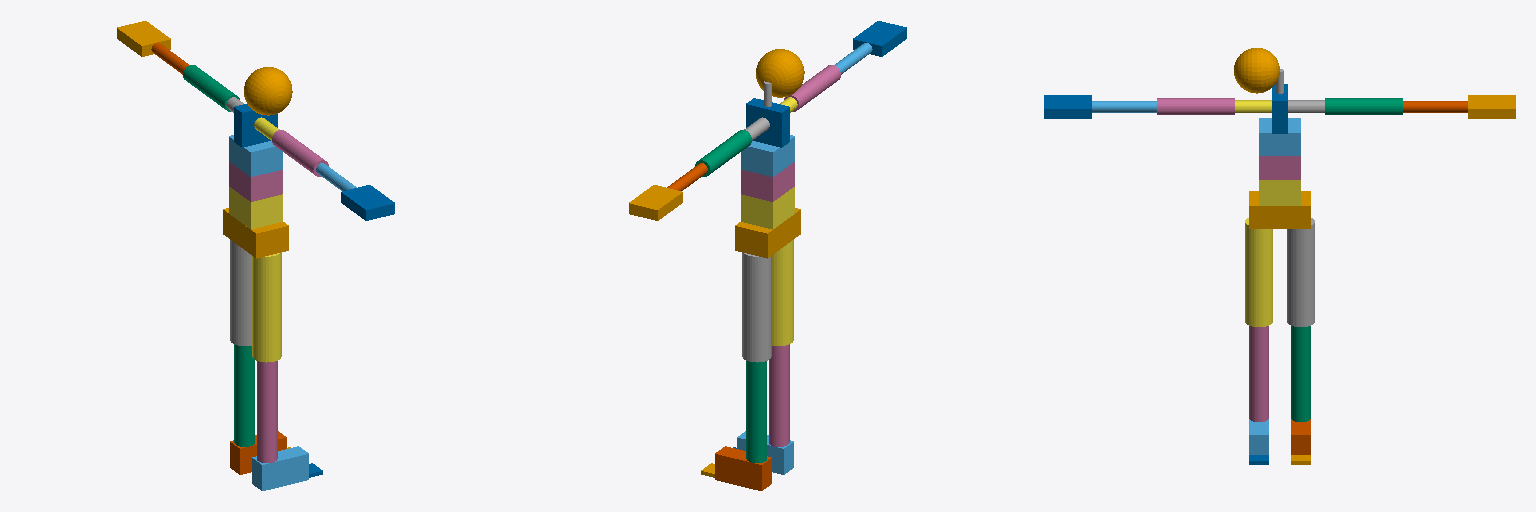
--- What the picture shows (computed from the rendered views, not written in the file) ---
3 views of the same robot in one strip: view 1: azimuth 30°, elevation 25°; view 2: azimuth 150°, elevation 25°; view 3: azimuth 270°, elevation 25° (orthographic).
Model XSensStyleModel_template with 65 links and 64 joints (64 revolute), rooted at Pelvis, posed all joints at 0.
Visible links, largest first — view 1: RightUpperLeg, LeftUpperLeg, RightLowerLeg, LeftLowerLeg, Head, Pelvis, RightFoot, T12, L5, L3, RightHand, LeftHand (+4 smaller); view 2: LeftUpperLeg, RightUpperLeg, LeftLowerLeg, RightLowerLeg, Pelvis, LeftFoot, Head, T12, L5, T8, L3, LeftHand (+4 smaller); view 3: RightUpperLeg, LeftUpperLeg, RightLowerLeg, LeftLowerLeg, Pelvis, Head, T12, RightUpperArm, LeftUpperArm, RightHand, LeftHand, L5 (+6 smaller).
Link boxes in pixels (x1,y1,x2,y2): RightUpperLeg: [252, 252, 281, 362]; LeftUpperLeg: [230, 240, 251, 345]; RightLowerLeg: [257, 361, 277, 462]; LeftLowerLeg: [234, 344, 254, 446]; Head: [244, 67, 292, 115]; Pelvis: [223, 208, 288, 258]; RightFoot: [252, 446, 308, 490]; T12: [229, 135, 282, 176]; L5: [229, 187, 282, 228]; L3: [229, 162, 282, 201]; RightHand: [341, 185, 394, 220]; LeftHand: [117, 21, 170, 56]; LeftUpperLeg: [742, 252, 771, 362]; RightUpperLeg: [772, 240, 793, 345]; LeftLowerLeg: [746, 361, 766, 462]; RightLowerLeg: [769, 344, 789, 446]; Pelvis: [735, 208, 800, 258]; LeftFoot: [715, 446, 771, 490]; Head: [756, 49, 804, 97]; T12: [741, 135, 794, 176]; L5: [741, 187, 794, 228]; T8: [746, 98, 789, 147]; L3: [741, 162, 794, 201]; LeftHand: [629, 185, 682, 220]; RightUpperLeg: [1245, 218, 1272, 326]; LeftUpperLeg: [1287, 218, 1314, 326]; RightLowerLeg: [1249, 326, 1268, 421]; LeftLowerLeg: [1291, 326, 1310, 421]; Pelvis: [1249, 191, 1310, 228]; Head: [1234, 48, 1279, 93]; T12: [1259, 118, 1300, 155]; RightUpperArm: [1157, 98, 1234, 114]; LeftUpperArm: [1325, 98, 1402, 114]; RightHand: [1044, 95, 1091, 118]; LeftHand: [1468, 95, 1515, 118]; L5: [1259, 180, 1300, 205].
Size in the robot's own frame: 0.2995 by 1.8 by 1.66 metres.
Geometry: primitives only (box / cylinder / sphere), no mesh files.

robot.urdf — XSensStyleModel_template:
<robot name="XSensStyleModel_template">
<!--To open this model with Gazebo replace the null masses, inertias and dimensions of the 'fake links f1 and f2'-->
    <!--LINKS-->
	<!--Link base (1)-->
	<link name="Pelvis">
        <inertial>
            <mass value="4.9968"/>
			<!--COM origin wrt pHipOrigin-->
            <origin xyz="0           0    0.049333" rpy="0 0 0" />

<inertia ixx="0.028067" iyy="0.011715" izz="0.031651" ixy="0" ixz="0" iyz="0"/>
        </inertial>

        <visual>
			<!--box origin wrt pHipOrigin-->
            <origin xyz="0           0    0.049333" rpy="0 0 0" />
            <geometry>
                <box size="0.13554     0.24008    0.098815"/>
            </geometry>
        </visual>

        <collision>
			<!--box origin wrt pHipOrigin-->
            <origin xyz="0           0    0.049333" rpy="0 0 0" />
            <geometry>
                <box size="0.13554     0.24008    0.098815"/>
            </geometry>
        </collision>

    </link>
    <!--Chain from (2) to (7)-->
	<link name="L5_f1">
        <inertial>
            <mass value="0.0001"/>
            <origin xyz="0 0 0" rpy="0 0 0" />
            <inertia ixx="0.0003" iyy="0.0003" izz="0.0003" ixy="0" ixz="0" iyz="0"/>
        </inertial>
    </link>
	<link name="L5_f2">
        <inertial>
            <mass value="0.0001"/>
            <origin xyz="0 0 0" rpy="0 0 0" />
            <inertia ixx="0.0003" iyy="0.0003" izz="0.0003" ixy="0" ixz="0" iyz="0"/>
        </inertial>
    </link>
	<link name="L5">
        <inertial>
            <mass value="6.3709"/>
			<!--COM origin wrt jL5S1-->
            <origin xyz="0           0    0.054602" rpy="0 0 0" />
            <inertia ixx="0.047176" iyy="0.03559" izz="0.069139" ixy="0" ixz="0" iyz="0"/>
        </inertial>

        <visual>
			<!--box origin origin wrt jL5S1-->
            <origin xyz="0           0    0.054602" rpy="0 0 0" />
            <geometry>
                <box size="0.13554     0.16014      0.1092"/>
            </geometry>
        </visual>

        <collision>
			<!--box origin origin wrt jL5S1-->
            <origin xyz="0           0    0.054602" rpy="0 0 0" />
            <geometry>
                <box size="0.13554     0.16014      0.1092"/>
            </geometry>
        </collision>
    </link>
	<link name="L3_f1">
        <inertial>
            <mass value="0.0001"/>
            <origin xyz="0 0 0" rpy="0 0 0" />
            <inertia ixx="0.0003" iyy="0.0003" izz="0.0003" ixy="0" ixz="0" iyz="0"/>
        </inertial>
    </link>
	<link name="L3_f2">
        <inertial>
            <mass value="0.0001"/>
            <origin xyz="0 0 0" rpy="0 0 0" />
            <inertia ixx="0.0003" iyy="0.0003" izz="0.0003" ixy="0" ixz="0" iyz="0"/>
        </inertial>
    </link>
	<link name="L3">
        <inertial>
            <mass value="6.3709"/>
			<!--COM origin wrt jL4L3-->
            <origin xyz="0           0    0.049336" rpy="0 0 0" />
            <inertia ixx="0.046013" iyy="0.034427" izz="0.069139" ixy="0" ixz="0" iyz="0"/>
        </inertial>

        <visual>
			<!--box origin origin wrt jL4L3-->
            <origin xyz="0           0    0.049336" rpy="0 0 0" />
            <geometry>
                <box size="0.13554     0.16014    0.098672"/>
            </geometry>
        </visual>

        <collision>
			<!--box origin origin wrt jL4L3-->
            <origin xyz="0           0    0.049336" rpy="0 0 0" />
            <geometry>
                <box size="0.13554     0.16014    0.098672"/>
            </geometry>
        </collision>
    </link>
	<link name="T12_f1">
        <inertial>
            <mass value="0.0001"/>
            <origin xyz="0 0 0" rpy="0 0 0" />
            <inertia ixx="0.0003" iyy="0.0003" izz="0.0003" ixy="0" ixz="0" iyz="0"/>
        </inertial>
    </link>
	<link name="T12_f2">
        <inertial>
            <mass value="0.0001"/>
            <origin xyz="0 0 0" rpy="0 0 0" />
            <inertia ixx="0.0003" iyy="0.0003" izz="0.0003" ixy="0" ixz="0" iyz="0"/>
        </inertial>
    </link>
	<link name="T12">
        <inertial>
            <mass value="6.3709"/>
			<!--COM origin wrt jL1T12-->
            <origin xyz="0           0    0.049336" rpy="0 0 0" />
            <inertia ixx="0.046013" iyy="0.034427" izz="0.069139" ixy="0" ixz="0" iyz="0"/>
        </inertial>

        <visual>
			<!--box origin origin wrt jL1T12-->
            <origin xyz="0           0    0.049336" rpy="0 0 0" />
            <geometry>
                <box size="0.13554     0.16014    0.098672"/>
            </geometry>
        </visual>

        <collision>
			<!--box origin origin wrt jL1T12-->
            <origin xyz="0           0    0.049336" rpy="0 0 0" />
            <geometry>
                <box size="0.13554     0.16014    0.098672"/>
            </geometry>
        </collision>
    </link>
	<link name="T8_f1">
        <inertial>
            <mass value="0.0001"/>
            <origin xyz="0 0 0" rpy="0 0 0" />
            <inertia ixx="0.0003" iyy="0.0003" izz="0.0003" ixy="0" ixz="0" iyz="0"/>
        </inertial>
    </link>
	<link name="T8_f2">
        <inertial>
            <mass value="0.0001"/>
            <origin xyz="0 0 0" rpy="0 0 0" />
            <inertia ixx="0.0003" iyy="0.0003" izz="0.0003" ixy="0" ixz="0" iyz="0"/>
        </inertial>
    </link>
	<link name="T8">
        <inertial>
            <mass value="2.4984"/>
			<!--COM origin wrt jT9T8-->
            <origin xyz="0           0    0.069461" rpy="0 0 0" />
            <inertia ixx="0.0047729" iyy="0.0087452" izz="0.0054818" ixy="0" ixz="0" iyz="0"/>
        </inertial>

        <visual>
			<!--box origin wrt jT9T8-->
            <origin xyz="0           0    0.069461" rpy="0 0 0" />
            <geometry>
                <box size="0.15068     0.06021     0.13892"/>
            </geometry>
        </visual>

        <collision>
			<!--box origin wrt jT9T8-->
            <origin xyz="0           0    0.069461" rpy="0 0 0" />
            <geometry>
                <box size="0.15068     0.06021     0.13892"/>
            </geometry>
        </collision>

    </link>
	<link name="Neck_f1">
        <inertial>
            <mass value="0.0001"/>
            <origin xyz="0 0 0" rpy="0 0 0" />
            <inertia ixx="0.0003" iyy="0.0003" izz="0.0003" ixy="0" ixz="0" iyz="0"/>
        </inertial>
    </link>
	<link name="Neck_f2">
        <inertial>
            <mass value="0.0001"/>
            <origin xyz="0 0 0" rpy="0 0 0" />
            <inertia ixx="0.0003" iyy="0.0003" izz="0.0003" ixy="0" ixz="0" iyz="0"/>
        </inertial>
    </link>
	<link name="Neck">
        <inertial>
            <mass value="0.74952"/>
			<!--COM origin wrt jT1C7-->
            <origin xyz="0           0    0.045917" rpy="0 0 0" />
            <inertia ixx="0.0006888" iyy="0.0006888" izz="0.00032408" ixy="0" ixz="0" iyz="0"/>
        </inertial>

        <visual>
			<!--box origin wrt jT1C7-->
            <origin xyz="0           0    0.045917" rpy="0 0 0" />
            <geometry>
		<cylinder length="0.091834" radius="0.014704"/>
            </geometry>
        </visual>

        <collision>
			<!--box origin wrt jT1C7-->
            <origin xyz="0           0    0.045917" rpy="0 0 0" />
            <geometry>
                <cylinder length="0.091834" radius="0.014704"/>
            </geometry>
        </collision>
    </link>
    <!--
	<link name="Head_f1">
        <inertial>
            <mass value="0.0001"/>
            <origin xyz="0 0 0" rpy="0 0 0" />
            <inertia ixx="0.0003" iyy="0.0003" izz="0.0003" ixy="0" ixz="0" iyz="0"/>
        </inertial>
    </link>
	<link name="Head_f2">
        <inertial>
            <mass value="0.0001"/>
            <origin xyz="0 0 0" rpy="0 0 0" />
            <inertia ixx="0.0003" iyy="0.0003" izz="0.0003" ixy="0" ixz="0" iyz="0"/>
        </inertial>
    </link>
    -->
	<link name="Head">
        <inertial>
            <mass value="2.2486"/>
			<!--COM origin wrt jC1Head-->
            <origin xyz="0           0    0.087994" rpy="0 0 0" />
            <inertia ixx="0.0069641" iyy="0.0069641" izz="0.0069641" ixy="0" ixz="0" iyz="0"/>
        </inertial>

        <visual>
			<!--boc origin wrt jC1Head-->
            <origin xyz="0           0    0.087994" rpy="0 0 0" />
            <geometry>
                <sphere radius="0.087994"/>
            </geometry>
        </visual>

        <collision>
			<!--box origin wrt jC1Head-->
            <origin xyz="0           0    0.087994" rpy="0 0 0" />
            <geometry>
                <sphere radius="0.087994"/>
            </geometry>
        </collision>

    </link>
	<!--Chain from (8) to (11)-->
	<link name="RightShoulder_f1">
        <inertial>
            <mass value="0.0001"/>
            <origin xyz="0 0 0" rpy="0 0 0" />
            <inertia ixx="0.0003" iyy="0.0003" izz="0.0003" ixy="0" ixz="0" iyz="0"/>
        </inertial>
    </link>
	<link name="RightShoulder_f2">
        <inertial>
            <mass value="0.0001"/>
            <origin xyz="0 0 0" rpy="0 0 0" />
            <inertia ixx="0.0003" iyy="0.0003" izz="0.0003" ixy="0" ixz="0" iyz="0"/>
        </inertial>
    </link>
	<link name="RightShoulder">
        <inertial>
            <mass value="1.9363"/>
			<!--COM origin wrt jRightC7Shoulder-->
            <origin xyz="0   -0.069978           0" rpy="0 0 0" />
            <inertia ixx="0.0034631" iyy="0.00060506" izz="0.0034631" ixy="0" ixz="0" iyz="0"/>
        </inertial>

        <visual>
			<!--box origin wrt jRightC7Shoulder. RPY rotated of pi/2.-->
            <origin xyz="0   -0.069978           0" rpy="1.5708 0 0" />
            <geometry>
                <cylinder length="0.13996" radius="0.025"/>
            </geometry>
        </visual>

        <collision>
			<!--box origin wrt jRightC7Shoulder. RPY rotated of pi/2.-->
            <origin xyz="0   -0.069978           0" rpy="1.5708 0 0" />
            <geometry>
                <cylinder length="0.13996" radius="0.025"/>
            </geometry>
        </collision>

    </link>
	<link name="RightUpperArm_f1">
        <inertial>
            <mass value="0.0001"/>
            <origin xyz="0 0 0" rpy="0 0 0" />
            <inertia ixx="0.0003" iyy="0.0003" izz="0.0003" ixy="0" ixz="0" iyz="0"/>
        </inertial>
    </link>
	<link name="RightUpperArm_f2">
        <inertial>
            <mass value="0.0001"/>
            <origin xyz="0 0 0" rpy="0 0 0" />
            <inertia ixx="0.0003" iyy="0.0003" izz="0.0003" ixy="0" ixz="0" iyz="0"/>
        </inertial>
    </link>
    <link name="RightUpperArm">
        <inertial>
            <mass value="1.8738"/>
			<!--COM origin wrt jRightShoulder-->
            <origin xyz="0    -0.15002           0" rpy="0 0 0" />
            <inertia ixx="0.014553" iyy="0.014553" izz="0.00099006" ixy="0" ixz="0" iyz="0"/>
        </inertial>

        <visual>
			<!--box origin wrt jRightShoulder. RPY rotated of pi/2.-->
            <origin xyz="0    -0.15002           0" rpy="1.5708 0 0" />
            <geometry>
                <cylinder length="0.30005" radius="0.032507"/>
            </geometry>
        </visual>

        <collision>
			<!--box origin wrt jRightShoulder. RPY rotated of pi/2.-->
            <origin xyz="0    -0.15002           0" rpy="1.5708 0 0" />
            <geometry>
                <cylinder length="0.30005" radius="0.032507"/>
            </geometry>
        </collision>

    </link>
	<link name="RightForeArm_f1">
        <inertial>
            <mass value="0.0001"/>
            <origin xyz="0 0 0" rpy="0 0 0" />
            <inertia ixx="0.0003" iyy="0.0003" izz="0.0003" ixy="0" ixz="0" iyz="0"/>
        </inertial>
    </link>
	<link name="RightForeArm_f2">
        <inertial>
            <mass value="0.0001"/>
            <origin xyz="0 0 0" rpy="0 0 0" />
            <inertia ixx="0.0003" iyy="0.0003" izz="0.0003" ixy="0" ixz="0" iyz="0"/>
        </inertial>
    </link>
	<link name="RightForeArm">
        <inertial>
            <mass value="1.2492"/>
			<!--COM origin wrt jRightElbow-->
            <origin xyz="0    -0.12263           0" rpy="0 0 0" />
            <inertia ixx="0.0064089" iyy="0.0064089" izz="0.00029335" ixy="0" ixz="0" iyz="0"/>
        </inertial>

        <visual>
			<!--box origin wrt jRightElbow. RPY rotated of pi/2.-->
            <origin xyz="0    -0.12263           0" rpy="1.5708 0 0" />
            <geometry>
                <cylinder length="0.24527" radius="0.021672"/>
            </geometry>
        </visual>

        <collision>
			<!--box origin wrt jRightElbow. RPY rotated of pi/2.-->
            <origin xyz="0    -0.12263           0" rpy="1.5708 0 0" />
            <geometry>
                <cylinder length="0.24527" radius="0.021672"/>
            </geometry>
        </collision>

    </link>
	<link name="RightHand_f1">
        <inertial>
            <mass value="0.0001"/>
            <origin xyz="0 0 0" rpy="0 0 0" />
            <inertia ixx="0.0003" iyy="0.0003" izz="0.0003" ixy="0" ixz="0" iyz="0"/>
        </inertial>
    </link>
	<link name="RightHand_f2">
        <inertial>
            <mass value="0.0001"/>
            <origin xyz="0 0 0" rpy="0 0 0" />
            <inertia ixx="0.0003" iyy="0.0003" izz="0.0003" ixy="0" ixz="0" iyz="0"/>
        </inertial>
    </link>
	<link name="RightHand">
        <inertial>
            <mass value="0.37476"/>
			<!--COM origin wrt jRightWrist-->
            <origin xyz="0   -0.091535           0" rpy="0 0 0" />
            <inertia ixx="0.0011053" iyy="0.00052385" izz="0.0015118" ixy="0" ixz="0" iyz="0"/>
        </inertial>

        <visual>
			<!--box origin wrt jRightWrist-->
            <origin xyz="0   -0.091535           0" rpy="0 0 0" />
            <geometry>
                <box size="0.12205     0.18307    0.043343"/>
            </geometry>
        </visual>

        <collision>
			<!--box origin wrt jRightWrist-->
            <origin xyz="0   -0.091535           0" rpy="0 0 0" />
            <geometry>
                <box size="0.12205     0.18307    0.043343"/>
            </geometry>
        </collision>

    </link>
	<!--Chain from (12) to (15)-->
	<link name="LeftShoulder_f1">
        <inertial>
            <mass value="0.0001"/>
            <origin xyz="0 0 0" rpy="0 0 0" />
            <inertia ixx="0.0003" iyy="0.0003" izz="0.0003" ixy="0" ixz="0" iyz="0"/>
        </inertial>
    </link>
	<link name="LeftShoulder_f2">
        <inertial>
            <mass value="0.0001"/>
            <origin xyz="0 0 0" rpy="0 0 0" />
            <inertia ixx="0.0003" iyy="0.0003" izz="0.0003" ixy="0" ixz="0" iyz="0"/>
        </inertial>
    </link>
	<link name="LeftShoulder">
        <inertial>
            <mass value="1.9363"/>
			<!--COM origin wrt jLeftC7Shoulder-->
            <origin xyz="0    0.069978           0" rpy="0 0 0" />
            <inertia ixx="0.0034631" iyy="0.00060506" izz="0.0034631" ixy="0" ixz="0" iyz="0"/>
        </inertial>

        <visual>
			<!--box origin wrt jLeftC7Shoulder. RPY rotated of pi/2.-->
            <origin xyz="0    0.069978           0" rpy="1.5708 0 0" />
            <geometry>
                <cylinder length="0.13996" radius="0.025"/>
            </geometry>
        </visual>

        <collision>
			<!--box origin wrt jLeftC7Shoulder. RPY rotated of pi/2.-->
            <origin xyz="0    0.069978           0" rpy="1.5708 0 0" />
            <geometry>
                <cylinder length="0.13996" radius="0.025"/>
            </geometry>
        </collision>

    </link>
	<link name="LeftUpperArm_f1">
        <inertial>
            <mass value="0.0001"/>
            <origin xyz="0 0 0" rpy="0 0 0" />
            <inertia ixx="0.0003" iyy="0.0003" izz="0.0003" ixy="0" ixz="0" iyz="0"/>
        </inertial>
    </link>
	<link name="LeftUpperArm_f2">
        <inertial>
            <mass value="0.0001"/>
            <origin xyz="0 0 0" rpy="0 0 0" />
            <inertia ixx="0.0003" iyy="0.0003" izz="0.0003" ixy="0" ixz="0" iyz="0"/>
        </inertial>
    </link>
	<link name="LeftUpperArm">
        <inertial>
            <mass value="1.8738"/>
			<!--COM origin wrt jLeftShoulder-->
            <origin xyz="0     0.15002           0" rpy="0 0 0" />
            <inertia ixx="0.014553" iyy="0.014553" izz="0.00099006" ixy="0" ixz="0" iyz="0"/>
        </inertial>

        <visual>
			<!--box origin wrt jLeftShoulder. RPY rotated of pi/2.-->
            <origin xyz="0     0.15002           0" rpy="1.5708 0 0" />
            <geometry>
                <cylinder length="0.30005" radius="0.032507"/>
            </geometry>
        </visual>

        <collision>
			<!--box origin wrt jLeftShoulder. RPY rotated of pi/2.-->
            <origin xyz="0     0.15002           0" rpy="1.5708 0 0" />
            <geometry>
                <cylinder length="0.30005" radius="0.032507"/>
            </geometry>
        </collision>

    </link>
	<link name="LeftForeArm_f1">
        <inertial>
            <mass value="0.0001"/>
            <origin xyz="0 0 0" rpy="0 0 0" />
            <inertia ixx="0.0003" iyy="0.0003" izz="0.0003" ixy="0" ixz="0" iyz="0"/>
        </inertial>
    </link>
	<link name="LeftForeArm_f2">
        <inertial>
            <mass value="0.0001"/>
            <origin xyz="0 0 0" rpy="0 0 0" />
            <inertia ixx="0.0003" iyy="0.0003" izz="0.0003" ixy="0" ixz="0" iyz="0"/>
        </inertial>
    </link>
	<link name="LeftForeArm">
        <inertial>
            <mass value="1.2492"/>
			<!--COM origin wrt jLeftElbow-->
            <origin xyz="0     0.12263           0" rpy="0 0 0" />
            <inertia ixx="0.0064089" iyy="0.0064089" izz="0.00029335" ixy="0" ixz="0" iyz="0"/>
        </inertial>

        <visual>
			<!--box origin wrt jLeftElbow. RPY rotated of pi/2.-->
            <origin xyz="0     0.12263           0" rpy="1.5708 0 0" />
            <geometry>
                <cylinder length="0.24527" radius="0.021672"/>
            </geometry>
        </visual>

        <collision>
			<!--box origin wrt jLeftElbow. RPY rotated of pi/2.-->
            <origin xyz="0     0.12263           0" rpy="1.5708 0 0" />
            <geometry>
                <cylinder length="0.24527" radius="0.021672"/>
            </geometry>
        </collision>

    </link>
	<link name="LeftHand_f1">
        <inertial>
            <mass value="0.0001"/>
            <origin xyz="0 0 0" rpy="0 0 0" />
            <inertia ixx="0.0003" iyy="0.0003" izz="0.0003" ixy="0" ixz="0" iyz="0"/>
        </inertial>
    </link>
	<link name="LeftHand_f2">
        <inertial>
            <mass value="0.0001"/>
            <origin xyz="0 0 0" rpy="0 0 0" />
            <inertia ixx="0.0003" iyy="0.0003" izz="0.0003" ixy="0" ixz="0" iyz="0"/>
        </inertial>
    </link>
	<link name="LeftHand">
        <inertial>
            <mass value="0.37476"/>
			<!--COM origin wrt jLeftWrist-->
            <origin xyz="0    0.091535           0" rpy="0 0 0" />
            <inertia ixx="0.0011053" iyy="0.00052385" izz="0.0015118" ixy="0" ixz="0" iyz="0"/>
        </inertial>

        <visual>
			<!--COM origin wrt jLeftWrist-->
            <origin xyz="0    0.091535           0" rpy="0 0 0" />
            <geometry>
                <box size="0.12205     0.18307    0.043343"/>
            </geometry>
        </visual>

        <collision>
			<!--COM origin wrt jLeftWrist-->
            <origin xyz="0    0.091535           0" rpy="0 0 0" />
            <geometry>
                <box size="0.12205     0.18307    0.043343"/>
            </geometry>
        </collision>

    </link>
	<!--Chain from (16) to (19)-->
	<link name="RightUpperLeg_f1">
        <inertial>
            <mass value="0.0001"/>
            <origin xyz="0 0 0" rpy="0 0 0" />
            <inertia ixx="0.0003" iyy="0.0003" izz="0.0003" ixy="0" ixz="0" iyz="0"/>
        </inertial>
    </link>
	<link name="RightUpperLeg_f2">
        <inertial>
            <mass value="0.0001"/>
            <origin xyz="0 0 0" rpy="0 0 0" />
            <inertia ixx="0.0003" iyy="0.0003" izz="0.0003" ixy="0" ixz="0" iyz="0"/>
        </inertial>
    </link>
    <link name="RightUpperLeg">
        <inertial>
            <mass value="7.8075"/>
			<!--COM origin wrt jRightHip-->
            <origin xyz="0           0    -0.21002" rpy="0 0 0" />
            <inertia ixx="0.12026" iyy="0.12026" izz="0.010935" ixy="0" ixz="0" iyz="0"/>
        </inertial>

        <visual>
			<!--box origin wrt jRightHip-->
            <origin xyz="0           0    -0.21002" rpy="0 0 0" />
            <geometry>
                <cylinder length="0.42004" radius="0.052927"/>
            </geometry>
        </visual>

        <collision>
			<!--box origin wrt jRightHip-->
            <origin xyz="0           0    -0.21002" rpy="0 0 0" />
            <geometry>
                <cylinder length="0.42004" radius="0.052927"/>
            </geometry>
        </collision>

    </link>
	<link name="RightLowerLeg_f1">
        <inertial>
            <mass value="0.0001"/>
            <origin xyz="0 0 0" rpy="0 0 0" />
            <inertia ixx="0.0003" iyy="0.0003" izz="0.0003" ixy="0" ixz="0" iyz="0"/>
        </inertial>
    </link>
	<link name="RightLowerLeg_f2">
        <inertial>
            <mass value="0.0001"/>
            <origin xyz="0 0 0" rpy="0 0 0" />
            <inertia ixx="0.0003" iyy="0.0003" izz="0.0003" ixy="0" ixz="0" iyz="0"/>
        </inertial>
    </link>
    <link name="RightLowerLeg">
        <inertial>
            <mass value="2.2798"/>
			<!--COM origin wrt jRightKnee-->
            <origin xyz="0           0    -0.20367" rpy="0 0 0" />
            <inertia ixx="0.032328" iyy="0.032328" izz="0.0016104" ixy="0" ixz="0" iyz="0"/>
        </inertial>

        <visual>
			<!--box origin wrt jRightKnee-->
            <origin xyz="0           0    -0.20367" rpy="0 0 0" />
            <geometry>
                <cylinder length="0.40734" radius="0.037587"/>
            </geometry>
        </visual>

        <collision>
			<!--box origin wrt jRightKnee-->
            <origin xyz="0           0    -0.20367" rpy="0 0 0" />
            <geometry>
                <cylinder length="0.40734" radius="0.037587"/>
            </geometry>
        </collision>

    </link>
	<link name="RightFoot_f1">
        <inertial>
            <mass value="0.0001"/>
            <origin xyz="0 0 0" rpy="0 0 0" />
            <inertia ixx="0.0003" iyy="0.0003" izz="0.0003" ixy="0" ixz="0" iyz="0"/>
        </inertial>
    </link>
	<link name="RightFoot_f2">
        <inertial>
            <mass value="0.0001"/>
            <origin xyz="0 0 0" rpy="0 0 0" />
            <inertia ixx="0.0003" iyy="0.0003" izz="0.0003" ixy="0" ixz="0" iyz="0"/>
        </inertial>
    </link>
    <link name="RightFoot">
        <inertial>
            <mass value="0.81198"/>
			<!--COM origin wrt jRightAnkle-->
            <origin xyz="0.05524           0   -0.052405" rpy="0 0 0" />
            <inertia ixx="0.0011257" iyy="0.0033102" izz="0.0029493" ixy="0" ixz="0" iyz="0"/>
        </inertial>

        <visual>
			<!--box origin wrt jRightAnkle-->
	    	<origin xyz="0.05524           0   -0.052405" rpy="0 0 0" />
            <geometry>
                <box size="0.19477    0.075174     0.10481"/>
            </geometry>
        </visual>

        <collision>
			<!--box origin wrt jRightAnkle-->
		    <origin xyz="0.05524           0   -0.052405" rpy="0 0 0" />
	            <geometry>
	                <box size="0.19477    0.075174     0.10481"/>
	            </geometry>
        </collision>

    </link>
	<link name="RightToe_f1">
        <inertial>
            <mass value="0.0001"/>
            <origin xyz="0 0 0" rpy="0 0 0" />
            <inertia ixx="0.0003" iyy="0.0003" izz="0.0003" ixy="0" ixz="0" iyz="0"/>
        </inertial>
    </link>
	<link name="RightToe_f2">
        <inertial>
            <mass value="0.0001"/>
            <origin xyz="0 0 0" rpy="0 0 0" />
            <inertia ixx="0.0003" iyy="0.0003" izz="0.0003" ixy="0" ixz="0" iyz="0"/>
        </inertial>
    </link>
    <link name="RightToe">
        <inertial>
            <mass value="0.09369"/>
			<!--COM origin wrt jRightBallFoot-->
            <origin xyz="0.029147           0           0" rpy="0 0 0" />
            <inertia ixx="4.579e-05" iyy="2.8201e-05" izz="7.0653e-05" ixy="0" ixz="0" iyz="0"/>
        </inertial>

        <visual>
			<!--box origin wrt jRightBallFoot-->
            <origin xyz="0.029147           0           0" rpy="0 0 0" />
            <geometry>
                <box size="0.058294    0.075174    0.014622"/>
            </geometry>
        </visual>

        <collision>
			<!--box origin wrt jRightBallFoot-->
            <origin xyz="0.029147           0           0" rpy="0 0 0" />
            <geometry>
                <box size="0.058294    0.075174    0.014622"/>
            </geometry>
        </collision>
    </link>
	<!--Chain from (20) to (23)-->
	<link name="LeftUpperLeg_f1">
        <inertial>
            <mass value="0.0001"/>
            <origin xyz="0 0 0" rpy="0 0 0" />
            <inertia ixx="0.0003" iyy="0.0003" izz="0.0003" ixy="0" ixz="0" iyz="0"/>
        </inertial>
    </link>
	<link name="LeftUpperLeg_f2">
        <inertial>
            <mass value="0.0001"/>
            <origin xyz="0 0 0" rpy="0 0 0" />
            <inertia ixx="0.0003" iyy="0.0003" izz="0.0003" ixy="0" ixz="0" iyz="0"/>
        </inertial>
    </link>
    <link name="LeftUpperLeg">
        <inertial>
            <mass value="7.8075"/>
			<!--COM origin wrt jLeftHip-->
            <origin xyz="0           0    -0.21002" rpy="0 0 0" />
            <inertia ixx="0.12026" iyy="0.12026" izz="0.010935" ixy="0" ixz="0" iyz="0"/>
        </inertial>

        <visual>
			<!--box origin wrt jLeftHip-->
            <origin xyz="0           0    -0.21002" rpy="0 0 0" />
            <geometry>
                <cylinder length="0.42004" radius="-0.052927"/>
            </geometry>
        </visual>

        <collision>
			<!--box origin wrt jLeftHip-->
            <origin xyz="0           0    -0.21002" rpy="0 0 0" />
            <geometry>
                <cylinder length="0.42004" radius="-0.052927"/>
            </geometry>
        </collision>

    </link>
	<link name="LeftLowerLeg_f1">
        <inertial>
            <mass value="0.0001"/>
            <origin xyz="0 0 0" rpy="0 0 0" />
            <inertia ixx="0.0003" iyy="0.0003" izz="0.0003" ixy="0" ixz="0" iyz="0"/>
        </inertial>
    </link>
	<link name="LeftLowerLeg_f2">
        <inertial>
            <mass value="0.0001"/>
            <origin xyz="0 0 0" rpy="0 0 0" />
            <inertia ixx="0.0003" iyy="0.0003" izz="0.0003" ixy="0" ixz="0" iyz="0"/>
        </inertial>
    </link>
	<link name="LeftLowerLeg">
        <inertial>
            <mass value="2.2798"/>
			<!--COM origin wrt jLeftKnee-->
            <origin xyz="0           0    -0.20367" rpy="0 0 0" />
            <inertia ixx="0.032328" iyy="0.032328" izz="0.0016104" ixy="0" ixz="0" iyz="0"/>
        </inertial>

        <visual>
			<!--box origin wrt jLeftKnee-->
            <origin xyz="0           0    -0.20367" rpy="0 0 0" />
            <geometry>
		<cylinder length="0.40734" radius="0.037587"/>
            </geometry>
        </visual>

        <collision>
			<!--box origin wrt jLeftKnee-->
            <origin xyz="0           0    -0.20367" rpy="0 0 0" />
            <geometry>
		<cylinder length="0.40734" radius="0.037587"/>
            </geometry>
        </collision>

    </link>
	<link name="LeftFoot_f1">
        <inertial>
            <mass value="0.0001"/>
            <origin xyz="0 0 0" rpy="0 0 0" />
            <inertia ixx="0.0003" iyy="0.0003" izz="0.0003" ixy="0" ixz="0" iyz="0"/>
        </inertial>
    </link>
	<link name="LeftFoot_f2">
        <inertial>
            <mass value="0.0001"/>
            <origin xyz="0 0 0" rpy="0 0 0" />
            <inertia ixx="0.0003" iyy="0.0003" izz="0.0003" ixy="0" ixz="0" iyz="0"/>
        </inertial>
    </link>
    <link name="LeftFoot">
        <inertial>
            <mass value="0.81198"/>
			<!--COM origin wrt jLeftAnkle-->
            <origin xyz="0.05524           0   -0.052405" rpy="0 0 0" />
            <inertia ixx="0.0011257" iyy="0.0033102" izz="0.0029493" ixy="0" ixz="0" iyz="0"/>
        </inertial>

        <visual>
			<!--box origin wrt jLeftAnkle-->
	   	 	<origin xyz="0.05524           0   -0.052405" rpy="0 0 0" />
            <geometry>
                <box size="0.19477    0.075174     0.10481"/>
            </geometry>
        </visual>

        <collision>
			<!--box origin wrt jLeftAnkle-->
		    <origin xyz="0.05524           0   -0.052405" rpy="0 0 0" />
	            <geometry>
	                <box size="0.19477    0.075174     0.10481"/>
	            </geometry>
        </collision>

    </link>
	<link name="LeftToe_f1">
        <inertial>
            <mass value="0.0001"/>
            <origin xyz="0 0 0" rpy="0 0 0" />
            <inertia ixx="0.0003" iyy="0.0003" izz="0.0003" ixy="0" ixz="0" iyz="0"/>
        </inertial>
    </link>
	<link name="LeftToe_f2">
        <inertial>
            <mass value="0.0001"/>
            <origin xyz="0 0 0" rpy="0 0 0" />
            <inertia ixx="0.0003" iyy="0.0003" izz="0.0003" ixy="0" ixz="0" iyz="0"/>
        </inertial>
    </link>
	<link name="LeftToe">
        <inertial>
            <mass value="0.09369"/>
			<!--COM origin wrt jLeftBallFoot-->
            <origin xyz="0.029147           0           0" rpy="0 0 0" />
            <inertia ixx="4.579e-05" iyy="2.8201e-05" izz="7.0653e-05" ixy="0" ixz="0" iyz="0"/>
        </inertial>

        <visual>
			<!--box origin wrt jLeftBallFoot-->
            <origin xyz="0.029147           0           0" rpy="0 0 0" />
            <geometry>
                <box size="0.058294    0.075174    0.014622"/>
            </geometry>
        </visual>

        <collision>
			<!--box origin wrt jLeftBallFoot-->
            <origin xyz="0.029147           0           0" rpy="0 0 0" />
            <geometry>
                <box size="0.058294    0.075174    0.014622"/>
            </geometry>
        </collision>
    </link>


	<!--JOINTS-->
	<!--Chain from (2) to (7)-->
	<joint name="jL5S1_rotx" type="revolute">
        <origin xyz="1.5e-05           0    0.098741" rpy="0 0 0"/>
        <parent link="Pelvis"/>
        <child link="L5_f1"/>
        <dynamics damping="0.1" friction="0.0"/>
        <limit effort="30" velocity="1.0" lower="-3.141592" upper="3.141592" />
        <axis xyz="1 0 0" />
    </joint>
	<joint name="jL5S1_roty" type="revolute">
        <origin xyz="0 0 0" rpy="0 0 0"/>
        <parent link="L5_f1"/>
        <child link="L5_f2"/>
        <dynamics damping="0.1" friction="0.0"/>
        <limit effort="30" velocity="1.0" lower="-3.141592" upper="3.141592" />
        <axis xyz="0 1 0" />
    </joint>
    <joint name="jL5S1_rotz" type="revolute">
        <origin xyz="0 0 0" rpy="0 0 0"/>
        <parent link="L5_f2"/>
        <child link="L5"/>
        <dynamics damping="0.1" friction="0.0"/>
        <limit effort="30" velocity="1.0" lower="-3.141592" upper="3.141592" />
        <axis xyz="0 0 1" />
    </joint>
	<joint name="jL4L3_rotx" type="revolute">
        <origin xyz="-2.7e-05           0      0.1092" rpy="0 0 0"/>
        <parent link="L5"/>
        <child link="L3_f1"/>
        <dynamics damping="0.1" friction="0.0"/>
        <limit effort="30" velocity="1.0" lower="-3.141592" upper="3.141592" />
        <axis xyz="1 0 0" />
    </joint>
	<joint name="jL4L3_roty" type="revolute">
        <origin xyz="0 0 0" rpy="0 0 0"/>
        <parent link="L3_f1"/>
        <child link="L3_f2"/>
        <dynamics damping="0.1" friction="0.0"/>
        <limit effort="30" velocity="1.0" lower="-3.141592" upper="3.141592" />
        <axis xyz="0 1 0" />
    </joint>
    <joint name="jL4L3_rotz" type="revolute">
        <origin xyz="0 0 0" rpy="0 0 0"/>
        <parent link="L3_f2"/>
        <child link="L3"/>
        <dynamics damping="0.1" friction="0.0"/>
        <limit effort="30" velocity="1.0" lower="-3.141592" upper="3.141592" />
        <axis xyz="0 0 1" />
    </joint>
	<joint name="jL1T12_rotx" type="revolute">
        <origin xyz="0           0    0.098672" rpy="0 0 0"/>
        <parent link="L3"/>
        <child link="T12_f1"/>
        <dynamics damping="0.1" friction="0.0"/>
        <limit effort="30" velocity="1.0" lower="-3.141592" upper="3.141592" />
        <axis xyz="1 0 0" />
    </joint>
	<joint name="jL1T12_roty" type="revolute">
        <origin xyz="0 0 0" rpy="0 0 0"/>
        <parent link="T12_f1"/>
        <child link="T12_f2"/>
        <dynamics damping="0.1" friction="0.0"/>
        <limit effort="30" velocity="1.0" lower="-3.141592" upper="3.141592" />
        <axis xyz="0 1 0" />
    </joint>
    <joint name="jL1T12_rotz" type="revolute">
        <origin xyz="0 0 0" rpy="0 0 0"/>
        <parent link="T12_f2"/>
        <child link="T12"/>
        <dynamics damping="0.1" friction="0.0"/>
        <limit effort="30" velocity="1.0" lower="-3.141592" upper="3.141592" />
        <axis xyz="0 0 1" />
    </joint>
	<joint name="jT9T8_rotx" type="revolute">
        <origin xyz="0           0    0.098672" rpy="0 0 0"/>
        <parent link="T12"/>
        <child link="T8_f1"/>
        <dynamics damping="0.1" friction="0.0"/>
        <limit effort="30" velocity="1.0" lower="-3.141592" upper="3.141592" />
        <axis xyz="1 0 0" />
    </joint>
	<joint name="jT9T8_roty" type="revolute">
        <origin xyz="0 0 0" rpy="0 0 0"/>
        <parent link="T8_f1"/>
        <child link="T8_f2"/>
        <dynamics damping="0.1" friction="0.0"/>
        <limit effort="30" velocity="1.0" lower="-3.141592" upper="3.141592" />
        <axis xyz="0 1 0" />
    </joint>
    <joint name="jT9T8_rotz" type="revolute">
        <origin xyz="0 0 0" rpy="0 0 0"/>
        <parent link="T8_f2"/>
        <child link="T8"/>
        <dynamics damping="0.1" friction="0.0"/>
        <limit effort="30" velocity="1.0" lower="-3.141592" upper="3.141592" />
        <axis xyz="0 0 1" />
    </joint>
	<joint name="jT1C7_rotx" type="revolute">
        <origin xyz="0           0     0.13892" rpy="0 0 0"/>
        <parent link="T8"/>
        <child link="Neck_f1"/>
        <dynamics damping="0.1" friction="0.0"/>
        <limit effort="30" velocity="1.0" lower="-3.141592" upper="3.141592" />
        <axis xyz="1 0 0" />
    </joint>
	<joint name="jT1C7_roty" type="revolute">
        <origin xyz="0 0 0" rpy="0 0 0"/>
        <parent link="Neck_f1"/>
        <child link="Neck_f2"/>
        <dynamics damping="0.1" friction="0.0"/>
        <limit effort="30" velocity="1.0" lower="-3.141592" upper="3.141592" />
        <axis xyz="0 1 0" />
    </joint>
    <joint name="jT1C7_rotz" type="revolute">
        <origin xyz="0 0 0" rpy="0 0 0"/>
        <parent link="Neck_f2"/>
        <child link="Neck"/>
        <dynamics damping="0.1" friction="0.0"/>
        <limit effort="30" velocity="1.0" lower="-3.141592" upper="3.141592" />
        <axis xyz="0 0 1" />
    </joint>
	<joint name="jC1Head_rotx" type="revolute">
        <origin xyz="-6.5e-05           0    0.091834" rpy="1.57079632679 0.7853 0"/>
        <parent link="Neck"/>
        <child link="Head"/>
        <dynamics damping="0.1" friction="0.0"/>
        <limit effort="30" velocity="1.0" lower="-3.141592" upper="3.141592" />
        <axis xyz="1 0 0" />
    </joint>
<!--
<joint name="jC1Head_roty" type="revolute">
        <origin xyz="0 0 0" rpy="0 0 0"/>
        <parent link="Head_f1"/>
        <child link="Head_f2"/>
        <dynamics damping="0.1" friction="0.0"/>
        <limit effort="30" velocity="1.0" lower="-3.141592" upper="3.141592" />
        <axis xyz="0 1 0" />
    </joint>
    <joint name="jC1Head_rotz" type="revolute">
        <origin xyz="0 0 0" rpy="0 0 0"/>
        <parent link="Head_f2"/>
        <child link="Head"/>
        <dynamics damping="0.1" friction="0.0"/>
        <limit effort="30" velocity="1.0" lower="-3.141592" upper="3.141592" />
        <axis xyz="0 0 1" />
    </joint>
    -->
	<!--Chain from (8) to (11)-->
	<joint name="jRightC7Shoulder_rotx" type="revolute">
        <origin xyz="0   -0.030105    0.077497" rpy="0 0 0"/>
        <parent link="T8"/>
        <child link="RightShoulder_f1"/>
        <dynamics damping="0.1" friction="0.0"/>
        <limit effort="30" velocity="1.0" lower="-3.141592" upper="3.141592" />
        <axis xyz="1 0 0" />
    </joint>
	<joint name="jRightC7Shoulder_roty" type="revolute">
        <origin xyz="0 0 0" rpy="0 0 0"/>
        <parent link="RightShoulder_f1"/>
        <child link="RightShoulder_f2"/>
        <dynamics damping="0.1" friction="0.0"/>
        <limit effort="30" velocity="1.0" lower="-3.141592" upper="3.141592" />
        <axis xyz="0 1 0" />
    </joint>
    <joint name="jRightC7Shoulder_rotz" type="revolute">
        <origin xyz="0 0 0" rpy="0 0 0"/>
        <parent link="RightShoulder_f2"/>
        <child link="RightShoulder"/>
        <dynamics damping="0.1" friction="0.0"/>
        <limit effort="30" velocity="1.0" lower="-3.141592" upper="3.141592" />
        <axis xyz="0 0 1" />
    </joint>
	<joint name="jRightShoulder_rotx" type="revolute">
        <origin xyz="0    -0.13996           0" rpy="0 0 0"/>
        <parent link="RightShoulder"/>
        <child link="RightUpperArm_f1"/>
        <dynamics damping="0.1" friction="0.0"/>
        <limit effort="30" velocity="1.0" lower="-3.141592" upper="3.141592" />
        <axis xyz="1 0 0" />
    </joint>
	<joint name="jRightShoulder_roty" type="revolute">
        <origin xyz="0 0 0" rpy="0 0 0"/>
        <parent link="RightUpperArm_f1"/>
        <child link="RightUpperArm_f2"/>
        <dynamics damping="0.1" friction="0.0"/>
        <limit effort="30" velocity="1.0" lower="-3.141592" upper="3.141592" />
        <axis xyz="0 1 0" />
    </joint>
    <joint name="jRightShoulder_rotz" type="revolute">
        <origin xyz="0 0 0" rpy="0 0 0"/>
        <parent link="RightUpperArm_f2"/>
        <child link="RightUpperArm"/>
        <dynamics damping="0.1" friction="0.0"/>
        <limit effort="30" velocity="1.0" lower="-3.141592" upper="3.141592" />
        <axis xyz="0 0 1" />
    </joint>
	<joint name="jRightElbow_rotx" type="revolute">
        <origin xyz="0    -0.30005           0" rpy="0 0 0"/>
        <parent link="RightUpperArm"/>
        <child link="RightForeArm_f1"/>
        <dynamics damping="0.1" friction="0.0"/>
        <limit effort="30" velocity="1.0" lower="-3.141592" upper="3.141592" />
        <axis xyz="1 0 0" />
    </joint>
	<joint name="jRightElbow_roty" type="revolute">
        <origin xyz="0 0 0" rpy="0 0 0"/>
        <parent link="RightForeArm_f1"/>
        <child link="RightForeArm_f2"/>
        <dynamics damping="0.1" friction="0.0"/>
        <limit effort="30" velocity="1.0" lower="-3.141592" upper="3.141592" />
        <axis xyz="0 1 0" />
    </joint>
    <joint name="jRightElbow_rotz" type="revolute">
        <origin xyz="0 0 0" rpy="0 0 0"/>
        <parent link="RightForeArm_f2"/>
        <child link="RightForeArm"/>
        <dynamics damping="0.1" friction="0.0"/>
        <limit effort="30" velocity="1.0" lower="-3.141592" upper="3.141592" />
        <axis xyz="0 0 1" />
    </joint>
	<joint name="jRightWrist_rotx" type="revolute">
        <origin xyz="1e-06    -0.24527           0" rpy="0 0 0"/>
        <parent link="RightForeArm"/>
        <child link="RightHand_f1"/>
        <dynamics damping="0.1" friction="0.0"/>
        <limit effort="30" velocity="1.0" lower="-3.141592" upper="3.141592" />
        <axis xyz="1 0 0" />
    </joint>
	<joint name="jRightWrist_roty" type="revolute">
        <origin xyz="0 0 0" rpy="0 0 0"/>
        <parent link="RightHand_f1"/>
        <child link="RightHand_f2"/>
        <dynamics damping="0.1" friction="0.0"/>
        <limit effort="30" velocity="1.0" lower="-3.141592" upper="3.141592" />
        <axis xyz="0 1 0" />
    </joint>
    <joint name="jRightWrist_rotz" type="revolute">
        <origin xyz="0 0 0" rpy="0 0 0"/>
        <parent link="RightHand_f2"/>
        <child link="RightHand"/>
        <dynamics damping="0.1" friction="0.0"/>
        <limit effort="30" velocity="1.0" lower="-3.141592" upper="3.141592" />
        <axis xyz="0 0 1" />
    </joint>
	<!--Chain from (12) to (15)-->
	<joint name="jLeftC7Shoulder_rotx" type="revolute">
        <origin xyz="0    0.030105    0.077497" rpy="0 0 0"/>
        <parent link="T8"/>
        <child link="LeftShoulder_f1"/>
        <dynamics damping="0.1" friction="0.0"/>
        <limit effort="30" velocity="1.0" lower="-3.141592" upper="3.141592" />
        <axis xyz="1 0 0" />
    </joint>
	<joint name="jLeftC7Shoulder_roty" type="revolute">
        <origin xyz="0 0 0" rpy="0 0 0"/>
        <parent link="LeftShoulder_f1"/>
        <child link="LeftShoulder_f2"/>
        <dynamics damping="0.1" friction="0.0"/>
        <limit effort="30" velocity="1.0" lower="-3.141592" upper="3.141592" />
        <axis xyz="0 1 0" />
    </joint>
    <joint name="jLeftC7Shoulder_rotz" type="revolute">
        <origin xyz="0 0 0" rpy="0 0 0"/>
        <parent link="LeftShoulder_f2"/>
        <child link="LeftShoulder"/>
        <dynamics damping="0.1" friction="0.0"/>
        <limit effort="30" velocity="1.0" lower="-3.141592" upper="3.141592" />
        <axis xyz="0 0 1" />
    </joint>
	<joint name="jLeftShoulder_rotx" type="revolute">
        <origin xyz="0     0.13996           0" rpy="0 0 0"/>
        <parent link="LeftShoulder"/>
        <child link="LeftUpperArm_f1"/>
        <dynamics damping="0.1" friction="0.0"/>
        <limit effort="30" velocity="1.0" lower="-3.141592" upper="3.141592" />
        <axis xyz="1 0 0" />
    </joint>
	<joint name="jLeftShoulder_roty" type="revolute">
        <origin xyz="0 0 0" rpy="0 0 0"/>
        <parent link="LeftUpperArm_f1"/>
        <child link="LeftUpperArm_f2"/>
        <dynamics damping="0.1" friction="0.0"/>
        <limit effort="30" velocity="1.0" lower="-3.141592" upper="3.141592" />
        <axis xyz="0 1 0" />
    </joint>
    <joint name="jLeftShoulder_rotz" type="revolute">
        <origin xyz="0 0 0" rpy="0 0 0"/>
        <parent link="LeftUpperArm_f2"/>
        <child link="LeftUpperArm"/>
        <dynamics damping="0.1" friction="0.0"/>
        <limit effort="30" velocity="1.0" lower="-3.141592" upper="3.141592" />
        <axis xyz="0 0 1" />
    </joint>
    <joint name="jLeftElbow_rotx" type="revolute">
        <origin xyz="0     0.30005           0" rpy="0 0 0"/>
        <parent link="LeftUpperArm"/>
        <child link="LeftForeArm_f1"/>
        <dynamics damping="0.1" friction="0.0"/>
        <limit effort="30" velocity="1.0" lower="-3.141592" upper="3.141592" />
        <axis xyz="1 0 0" />
    </joint>
	<joint name="jLeftElbow_roty" type="revolute">
        <origin xyz="0 0 0" rpy="0 0 0"/>
        <parent link="LeftForeArm_f1"/>
        <child link="LeftForeArm_f2"/>
        <dynamics damping="0.1" friction="0.0"/>
        <limit effort="30" velocity="1.0" lower="-3.141592" upper="3.141592" />
        <axis xyz="0 1 0" />
    </joint>
    <joint name="jLeftElbow_rotz" type="revolute">
        <origin xyz="0 0 0" rpy="0 0 0"/>
        <parent link="LeftForeArm_f2"/>
        <child link="LeftForeArm"/>
        <dynamics damping="0.1" friction="0.0"/>
        <limit effort="30" velocity="1.0" lower="-3.141592" upper="3.141592" />
        <axis xyz="0 0 1" />
    </joint>
	<joint name="jLeftWrist_rotx" type="revolute">
        <origin xyz="1e-06     0.24527           0" rpy="0 0 0"/>
        <parent link="LeftForeArm"/>
        <child link="LeftHand_f1"/>
        <dynamics damping="0.1" friction="0.0"/>
        <limit effort="30" velocity="1.0" lower="-3.141592" upper="3.141592" />
        <axis xyz="1 0 0" />
    </joint>
	<joint name="jLeftWrist_roty" type="revolute">
        <origin xyz="0 0 0" rpy="0 0 0"/>
        <parent link="LeftHand_f1"/>
        <child link="LeftHand_f2"/>
        <dynamics damping="0.1" friction="0.0"/>
        <limit effort="30" velocity="1.0" lower="-3.141592" upper="3.141592" />
        <axis xyz="0 1 0" />
    </joint>
    <joint name="jLeftWrist_rotz" type="revolute">
        <origin xyz="0 0 0" rpy="0 0 0"/>
        <parent link="LeftHand_f2"/>
        <child link="LeftHand"/>
        <dynamics damping="0.1" friction="0.0"/>
        <limit effort="30" velocity="1.0" lower="-3.141592" upper="3.141592" />
        <axis xyz="0 0 1" />
    </joint>
	<!--Chain from (16) to (19)-->
	<joint name="jRightHip_rotx" type="revolute">
        <origin xyz="-8e-06   -0.080069    -7.4e-05" rpy="0 0 0"/>
        <parent link="Pelvis"/>
        <child link="RightUpperLeg_f1"/>
        <dynamics damping="0.1" friction="0.0"/>
        <limit effort="30" velocity="1.0" lower="-3.141592" upper="3.141592" />
        <axis xyz="1 0 0" />
    </joint>
	<joint name="jRightHip_roty" type="revolute">
        <origin xyz="0 0 0" rpy="0 0 0"/>
        <parent link="RightUpperLeg_f1"/>
        <child link="RightUpperLeg_f2"/>
        <dynamics damping="0.1" friction="0.0"/>
        <limit effort="30" velocity="1.0" lower="-3.141592" upper="3.141592" />
        <axis xyz="0 1 0" />
    </joint>
    <joint name="jRightHip_rotz" type="revolute">
        <origin xyz="0 0 0" rpy="0 0 0"/>
        <parent link="RightUpperLeg_f2"/>
        <child link="RightUpperLeg"/>
        <dynamics damping="0.1" friction="0.0"/>
        <limit effort="30" velocity="1.0" lower="-3.141592" upper="3.141592" />
        <axis xyz="0 0 1" />
    </joint>
	<joint name="jRightKnee_rotx" type="revolute">
        <origin xyz="8e-06           0    -0.42004" rpy="0 0 0"/>
        <parent link="RightUpperLeg"/>
        <child link="RightLowerLeg_f1"/>
        <dynamics damping="0.1" friction="0.0"/>
        <limit effort="30" velocity="1.0" lower="-3.141592" upper="3.141592" />
        <axis xyz="1 0 0" />
    </joint>
	<joint name="jRightKnee_roty" type="revolute">
        <origin xyz="0 0 0" rpy="0 0 0"/>
        <parent link="RightLowerLeg_f1"/>
        <child link="RightLowerLeg_f2"/>
        <dynamics damping="0.1" friction="0.0"/>
        <limit effort="30" velocity="1.0" lower="-3.141592" upper="3.141592" />
        <axis xyz="0 1 0" />
    </joint>
    <joint name="jRightKnee_rotz" type="revolute">
        <origin xyz="0 0 0" rpy="0 0 0"/>
        <parent link="RightLowerLeg_f2"/>
        <child link="RightLowerLeg"/>
        <dynamics damping="0.1" friction="0.0"/>
        <limit effort="30" velocity="1.0" lower="-3.141592" upper="3.141592" />
        <axis xyz="0 0 1" />
    </joint>
	<joint name="jRightAnkle_rotx" type="revolute">
        <origin xyz="0.00046           0    -0.40734" rpy="0 0 0"/>
        <parent link="RightLowerLeg"/>
        <child link="RightFoot_f1"/>
        <dynamics damping="0.1" friction="0.0"/>
        <limit effort="30" velocity="1.0" lower="-3.141592" upper="3.141592" />
        <axis xyz="1 0 0" />
    </joint>
	<joint name="jRightAnkle_roty" type="revolute">
        <origin xyz="0 0 0" rpy="0 0 0"/>
        <parent link="RightFoot_f1"/>
        <child link="RightFoot_f2"/>
        <dynamics damping="0.1" friction="0.0"/>
        <limit effort="30" velocity="1.0" lower="-3.141592" upper="3.141592" />
        <axis xyz="0 1 0" />
    </joint>
    <joint name="jRightAnkle_rotz" type="revolute">
        <origin xyz="0 0 0" rpy="0 0 0"/>
        <parent link="RightFoot_f2"/>
        <child link="RightFoot"/>
        <dynamics damping="0.1" friction="0.0"/>
        <limit effort="30" velocity="1.0" lower="-3.141592" upper="3.141592" />
        <axis xyz="0 0 1" />
    </joint>
	<joint name="jRightBallFoot_rotx" type="revolute">
        <origin xyz="0.15263           0   -0.088953" rpy="0 0 0"/>
        <parent link="RightFoot"/>
        <child link="RightToe_f1"/>
        <dynamics damping="0.1" friction="0.0"/>
        <limit effort="30" velocity="1.0" lower="-3.141592" upper="3.141592" />
        <axis xyz="1 0 0" />
    </joint>
	<joint name="jRightBallFoot_roty" type="revolute">
        <origin xyz="0 0 0" rpy="0 0 0"/>
        <parent link="RightToe_f1"/>
        <child link="RightToe_f2"/>
        <dynamics damping="0.1" friction="0.0"/>
        <limit effort="30" velocity="1.0" lower="-3.141592" upper="3.141592" />
        <axis xyz="0 1 0" />
    </joint>
    <joint name="jRightBallFoot_rotz" type="revolute">
        <origin xyz="0 0 0" rpy="0 0 0"/>
        <parent link="RightToe_f2"/>
        <child link="RightToe"/>
        <dynamics damping="0.1" friction="0.0"/>
        <limit effort="30" velocity="1.0" lower="-3.141592" upper="3.141592" />
        <axis xyz="0 0 1" />
    </joint>
	<!--Chain from (20) to (23)-->
	<joint name="jLeftHip_rotx" type="revolute">
        <origin xyz="-8e-06    0.080069    -7.4e-05" rpy="0 0 0"/>
        <parent link="Pelvis"/>
        <child link="LeftUpperLeg_f1"/>
        <dynamics damping="0.1" friction="0.0"/>
        <limit effort="30" velocity="1.0" lower="-3.141592" upper="3.141592" />
        <axis xyz="1 0 0" />
    </joint>
	<joint name="jLeftHip_roty" type="revolute">
        <origin xyz="0 0 0" rpy="0 0 0"/>
        <parent link="LeftUpperLeg_f1"/>
        <child link="LeftUpperLeg_f2"/>
        <dynamics damping="0.1" friction="0.0"/>
        <limit effort="30" velocity="1.0" lower="-3.141592" upper="3.141592" />
        <axis xyz="0 1 0" />
    </joint>
    <joint name="jLeftHip_rotz" type="revolute">
        <origin xyz="0 0 0" rpy="0 0 0"/>
        <parent link="LeftUpperLeg_f2"/>
        <child link="LeftUpperLeg"/>
        <dynamics damping="0.1" friction="0.0"/>
        <limit effort="30" velocity="1.0" lower="-3.141592" upper="3.141592" />
        <axis xyz="0 0 1" />
    </joint>
	<joint name="jLeftKnee_rotx" type="revolute">
        <origin xyz="8e-06           0    -0.42004" rpy="0 0 0"/>
        <parent link="LeftUpperLeg"/>
        <child link="LeftLowerLeg_f1"/>
        <dynamics damping="0.1" friction="0.0"/>
        <limit effort="30" velocity="1.0" lower="-3.141592" upper="3.141592" />
        <axis xyz="1 0 0" />
    </joint>
	<joint name="jLeftKnee_roty" type="revolute">
        <origin xyz="0 0 0" rpy="0 0 0"/>
        <parent link="LeftLowerLeg_f1"/>
        <child link="LeftLowerLeg_f2"/>
        <dynamics damping="0.1" friction="0.0"/>
        <limit effort="30" velocity="1.0" lower="-3.141592" upper="3.141592" />
        <axis xyz="0 1 0" />
    </joint>
    <joint name="jLeftKnee_rotz" type="revolute">
        <origin xyz="0 0 0" rpy="0 0 0"/>
        <parent link="LeftLowerLeg_f2"/>
        <child link="LeftLowerLeg"/>
        <dynamics damping="0.1" friction="0.0"/>
        <limit effort="30" velocity="1.0" lower="-3.141592" upper="3.141592" />
        <axis xyz="0 0 1" />
    </joint>
	<joint name="jLeftAnkle_rotx" type="revolute">
        <origin xyz="0.00046           0    -0.40734" rpy="0 0 0"/>
        <parent link="LeftLowerLeg"/>
        <child link="LeftFoot_f1"/>
        <dynamics damping="0.1" friction="0.0"/>
        <limit effort="30" velocity="1.0" lower="-3.141592" upper="3.141592" />
        <axis xyz="1 0 0" />
    </joint>
	<joint name="jLeftAnkle_roty" type="revolute">
        <origin xyz="0 0 0" rpy="0 0 0"/>
        <parent link="LeftFoot_f1"/>
        <child link="LeftFoot_f2"/>
        <dynamics damping="0.1" friction="0.0"/>
        <limit effort="30" velocity="1.0" lower="-3.141592" upper="3.141592" />
        <axis xyz="0 1 0" />
    </joint>
    <joint name="jLeftAnkle_rotz" type="revolute">
        <origin xyz="0 0 0" rpy="0 0 0"/>
        <parent link="LeftFoot_f2"/>
        <child link="LeftFoot"/>
        <dynamics damping="0.1" friction="0.0"/>
        <limit effort="30" velocity="1.0" lower="-3.141592" upper="3.141592" />
        <axis xyz="0 0 1" />
    </joint>
	<joint name="jLeftBallFoot_rotx" type="revolute">
        <origin xyz="0.15263           0   -0.088953" rpy="0 0 0"/>
        <parent link="LeftFoot"/>
        <child link="LeftToe_f1"/>
        <dynamics damping="0.1" friction="0.0"/>
        <limit effort="30" velocity="1.0" lower="-3.141592" upper="3.141592" />
        <axis xyz="1 0 0" />
    </joint>
	<joint name="jLeftBallFoot_roty" type="revolute">
        <origin xyz="0 0 0" rpy="0 0 0"/>
        <parent link="LeftToe_f1"/>
        <child link="LeftToe_f2"/>
        <dynamics damping="0.1" friction="0.0"/>
        <limit effort="30" velocity="1.0" lower="-3.141592" upper="3.141592" />
        <axis xyz="0 1 0" />
    </joint>
    <joint name="jLeftBallFoot_rotz" type="revolute">
        <origin xyz="0 0 0" rpy="0 0 0"/>
        <parent link="LeftToe_f2"/>
        <child link="LeftToe"/>
        <dynamics damping="0.1" friction="0.0"/>
        <limit effort="30" velocity="1.0" lower="-3.141592" upper="3.141592" />
        <axis xyz="0 0 1" />
    </joint>

	<!-- Sensor  1-->
<sensor name="Pelvis_gyro" type="gyroscope">
<parent link="Pelvis"/>
<origin xyz="-0.055881  0.00020678    0.095148" rpy="0.094617      1.0086     -3.0304"/>
</sensor>
<sensor name="Pelvis_accelerometer" type="accelerometer">
<parent link="Pelvis"/>
<origin xyz="-0.055881  0.00020678    0.095148" rpy="0.094617      1.0086     -3.0304"/>
</sensor>
<!-- Sensor  2-->
<sensor name="T8_gyro" type="gyroscope">
<parent link="T8"/>
<origin xyz="0.14068  6.2838e-06    0.077433" rpy="-0.077161      1.1064    -0.17687"/>
</sensor>
<sensor name="T8_accelerometer" type="accelerometer">
<parent link="T8"/>
<origin xyz="0.14068  6.2838e-06    0.077433" rpy="-0.077161      1.1064    -0.17687"/>
</sensor>
<!-- Sensor  3-->
<sensor name="Head_gyro" type="gyroscope">
<parent link="Head"/>
<origin xyz="-0.06975 -2.1628e-05    0.076683" rpy="2.3836  -0.0032688     -1.7942"/>
</sensor>
<sensor name="Head_accelerometer" type="accelerometer">
<parent link="Head"/>
<origin xyz="-0.06975 -2.1628e-05    0.076683" rpy="2.3836  -0.0032688     -1.7942"/>
</sensor>
<!-- Sensor  4-->
<sensor name="RightShoulder_gyro" type="gyroscope">
<parent link="RightShoulder"/>
<origin xyz="-0.020002   -0.049977   -0.059953" rpy="1.0711    -0.16714    -0.95844"/>
</sensor>
<sensor name="RightShoulder_accelerometer" type="accelerometer">
<parent link="RightShoulder"/>
<origin xyz="-0.020002   -0.049977   -0.059953" rpy="1.0711    -0.16714    -0.95844"/>
</sensor>
<!-- Sensor  5-->
<sensor name="RightUpperArm_gyro" type="gyroscope">
<parent link="RightUpperArm"/>
<origin xyz="-0.020047   -0.099952    0.019983" rpy="-0.10514    0.025819     -1.5224"/>
</sensor>
<sensor name="RightUpperArm_accelerometer" type="accelerometer">
<parent link="RightUpperArm"/>
<origin xyz="-0.020047   -0.099952    0.019983" rpy="-0.10514    0.025819     -1.5224"/>
</sensor>
<!-- Sensor  6-->
<sensor name="RightForeArm_gyro" type="gyroscope">
<parent link="RightForeArm"/>
<origin xyz="0.0018328    -0.20024    0.019978" rpy="-0.41688   -0.021387     -1.2563"/>
</sensor>
<sensor name="RightForeArm_accelerometer" type="accelerometer">
<parent link="RightForeArm"/>
<origin xyz="0.0018328    -0.20024    0.019978" rpy="-0.41688   -0.021387     -1.2563"/>
</sensor>
<!-- Sensor  7-->
<sensor name="RightHand_gyro" type="gyroscope">
<parent link="RightHand"/>
<origin xyz="-7.5053e-06   -0.054958    0.020014" rpy="-0.37028    0.088894     -1.5331"/>
</sensor>
<sensor name="RightHand_accelerometer" type="accelerometer">
<parent link="RightHand"/>
<origin xyz="-7.5053e-06   -0.054958    0.020014" rpy="-0.37028    0.088894     -1.5331"/>
</sensor>
<!-- Sensor  8-->
<sensor name="LeftShoulder_gyro" type="gyroscope">
<parent link="LeftShoulder"/>
<origin xyz="-0.019992    0.049973    -0.05994" rpy="-1.0318    -0.19235      1.1962"/>
</sensor>
<sensor name="LeftShoulder_accelerometer" type="accelerometer">
<parent link="LeftShoulder"/>
<origin xyz="-0.019992    0.049973    -0.05994" rpy="-1.0318    -0.19235      1.1962"/>
</sensor>
<!-- Sensor  9-->
<sensor name="LeftUpperArm_gyro" type="gyroscope">
<parent link="LeftUpperArm"/>
<origin xyz="-0.020025    0.099939    0.019989" rpy="0.064789   -0.084026      1.4526"/>
</sensor>
<sensor name="LeftUpperArm_accelerometer" type="accelerometer">
<parent link="LeftUpperArm"/>
<origin xyz="-0.020025    0.099939    0.019989" rpy="0.064789   -0.084026      1.4526"/>
</sensor>
<!-- Sensor  10-->
<sensor name="LeftForeArm_gyro" type="gyroscope">
<parent link="LeftForeArm"/>
<origin xyz="0.0017837     0.20024    0.020006" rpy="0.72472      0.1279      1.0326"/>
</sensor>
<sensor name="LeftForeArm_accelerometer" type="accelerometer">
<parent link="LeftForeArm"/>
<origin xyz="0.0017837     0.20024    0.020006" rpy="0.72472      0.1279      1.0326"/>
</sensor>
<!-- Sensor  11-->
<sensor name="LeftHand_gyro" type="gyroscope">
<parent link="LeftHand"/>
<origin xyz="-3.1578e-05    0.054994    0.019979" rpy="-0.88757   0.0059868      1.7618"/>
</sensor>
<sensor name="LeftHand_accelerometer" type="accelerometer">
<parent link="LeftHand"/>
<origin xyz="-3.1578e-05    0.054994    0.019979" rpy="-0.88757   0.0059868      1.7618"/>
</sensor>
<!-- Sensor  12-->
<sensor name="RightUpperLeg_gyro" type="gyroscope">
<parent link="RightUpperLeg"/>
<origin xyz="0.013338   -0.044248    -0.25239" rpy="-3.0702      1.3416      1.8771"/>
</sensor>
<sensor name="RightUpperLeg_accelerometer" type="accelerometer">
<parent link="RightUpperLeg"/>
<origin xyz="0.013338   -0.044248    -0.25239" rpy="-3.0702      1.3416      1.8771"/>
</sensor>
<!-- Sensor  13-->
<sensor name="RightLowerLeg_gyro" type="gyroscope">
<parent link="RightLowerLeg"/>
<origin xyz="0.031063   0.0066293    -0.13321" rpy="-3.0874      1.4644     -2.7215"/>
</sensor>
<sensor name="RightLowerLeg_accelerometer" type="accelerometer">
<parent link="RightLowerLeg"/>
<origin xyz="0.031063   0.0066293    -0.13321" rpy="-3.0874      1.4644     -2.7215"/>
</sensor>
<!-- Sensor  14-->
<sensor name="RightFoot_gyro" type="gyroscope">
<parent link="RightFoot"/>
<origin xyz="0.089471   0.0011861   -0.012554" rpy="-0.07906     0.83912    -0.38361"/>
</sensor>
<sensor name="RightFoot_accelerometer" type="accelerometer">
<parent link="RightFoot"/>
<origin xyz="0.089471   0.0011861   -0.012554" rpy="-0.07906     0.83912    -0.38361"/>
</sensor>
<!-- Sensor  15-->
<sensor name="LeftUpperLeg_gyro" type="gyroscope">
<parent link="LeftUpperLeg"/>
<origin xyz="0.01207    0.043037    -0.25269" rpy="-3.11      1.3262    -0.93453"/>
</sensor>
<sensor name="LeftUpperLeg_accelerometer" type="accelerometer">
<parent link="LeftUpperLeg"/>
<origin xyz="0.01207    0.043037    -0.25269" rpy="-3.11      1.3262    -0.93453"/>
</sensor>
<!-- Sensor  16-->
<sensor name="LeftLowerLeg_gyro" type="gyroscope">
<parent link="LeftLowerLeg"/>
<origin xyz="0.030962  -0.0070902    -0.13319" rpy="-2.05      1.5347     -2.3088"/>
</sensor>
<sensor name="LeftLowerLeg_accelerometer" type="accelerometer">
<parent link="LeftLowerLeg"/>
<origin xyz="0.030962  -0.0070902    -0.13319" rpy="-2.05      1.5347     -2.3088"/>
</sensor>
<!-- Sensor  17-->
<sensor name="LeftFoot_gyro" type="gyroscope">
<parent link="LeftFoot"/>
<origin xyz="0.089484  -0.0013526   -0.012584" rpy="-0.35797     0.75899     0.20577"/>
</sensor>
<sensor name="LeftFoot_accelerometer" type="accelerometer">
<parent link="LeftFoot"/>
<origin xyz="0.089484  -0.0013526   -0.012584" rpy="-0.35797     0.75899     0.20577"/>
</sensor>


</robot>
